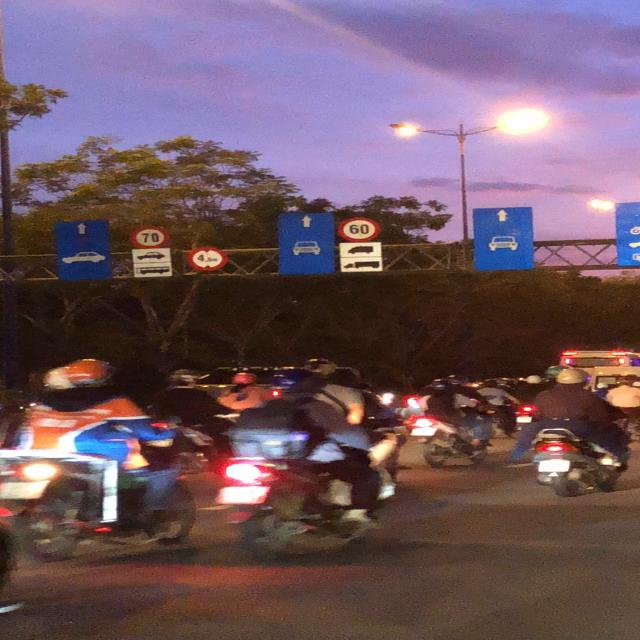Bien bao han che chieu cao: (184, 246, 227, 273)
Bien bao toc do toi da cho phep: (335, 216, 386, 242), (127, 225, 171, 253)
